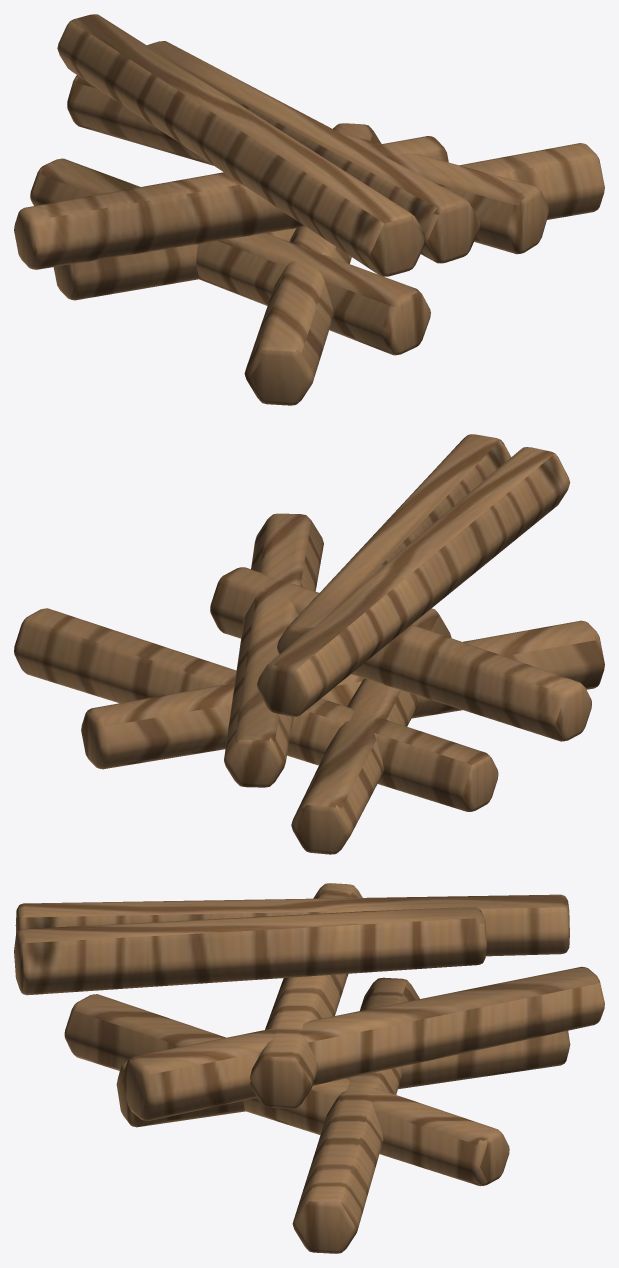
The model's file is p_firewood.glb.
The picture shows the model from 3 angles, top to bottom: view 1: azimuth 30°, elevation 25°; view 2: azimuth 150°, elevation 25°; view 3: azimuth 270°, elevation 25°; orthographic projection. The views are drawn at different scales.
Parts seen in each view (by area): view 1: firewood; view 2: firewood; view 3: firewood.
Boxes of the visible parts, x1=… form: firewood: x1=14, y1=14, x2=604, y2=405; firewood: x1=14, y1=434, x2=604, y2=854; firewood: x1=14, y1=883, x2=604, y2=1253.
Bounding box in the file's own units: 0.8815 × 0.2865 × 0.8403.
Materials: 1 (1 with a texture image).
